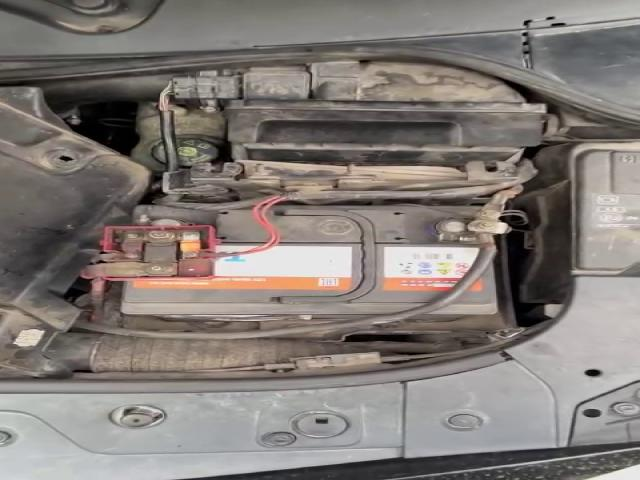accumulator: (90, 204, 508, 323)
fuse_box: (515, 141, 635, 305)
